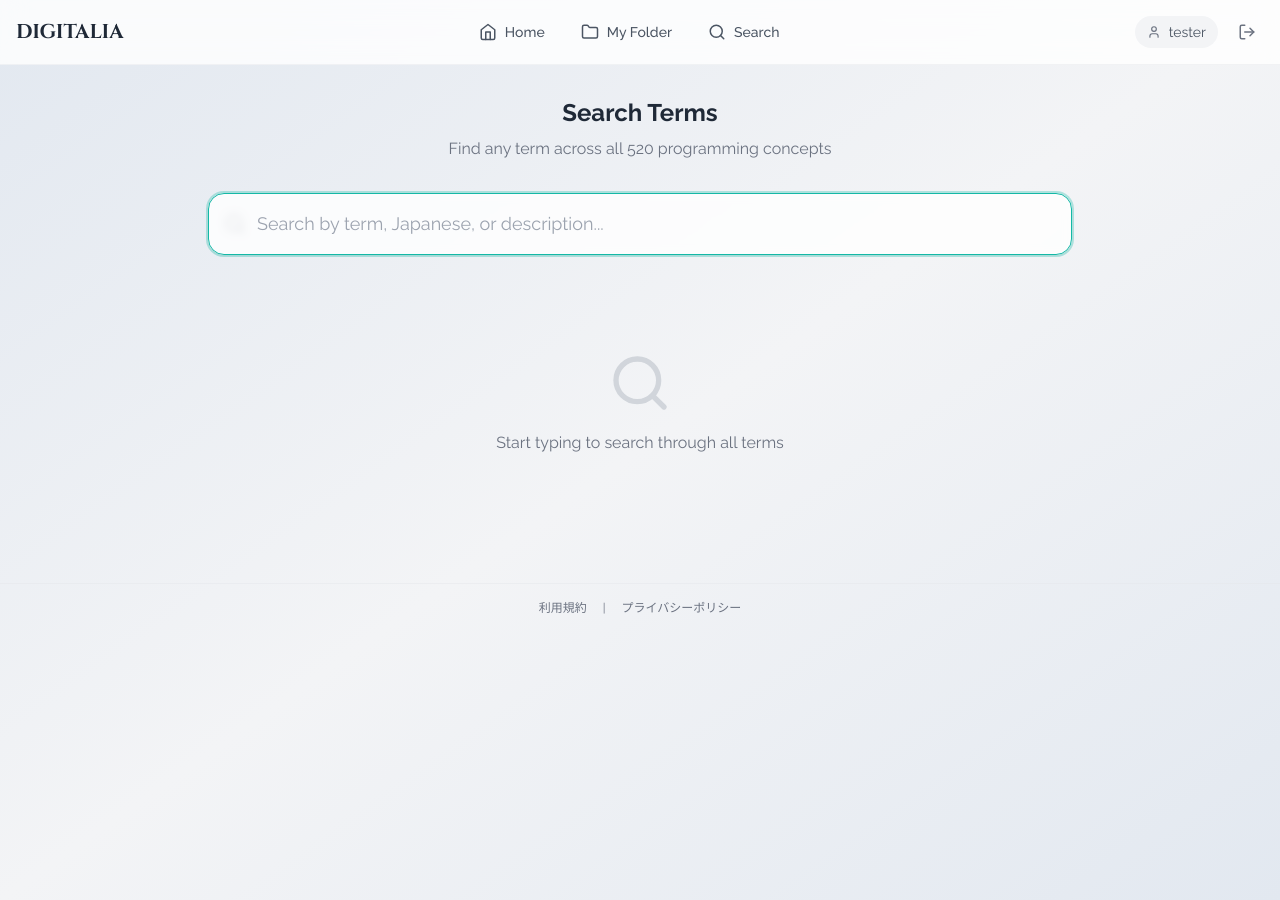
Test: SearchPage › shows loading spinner when searching
This screenshot has width=1280, height=900.
Type "binary" into the field with placeholder "Search by term, Japanese, or description...". click: (640, 224)
box: left=208, top=193, right=1072, bottom=255
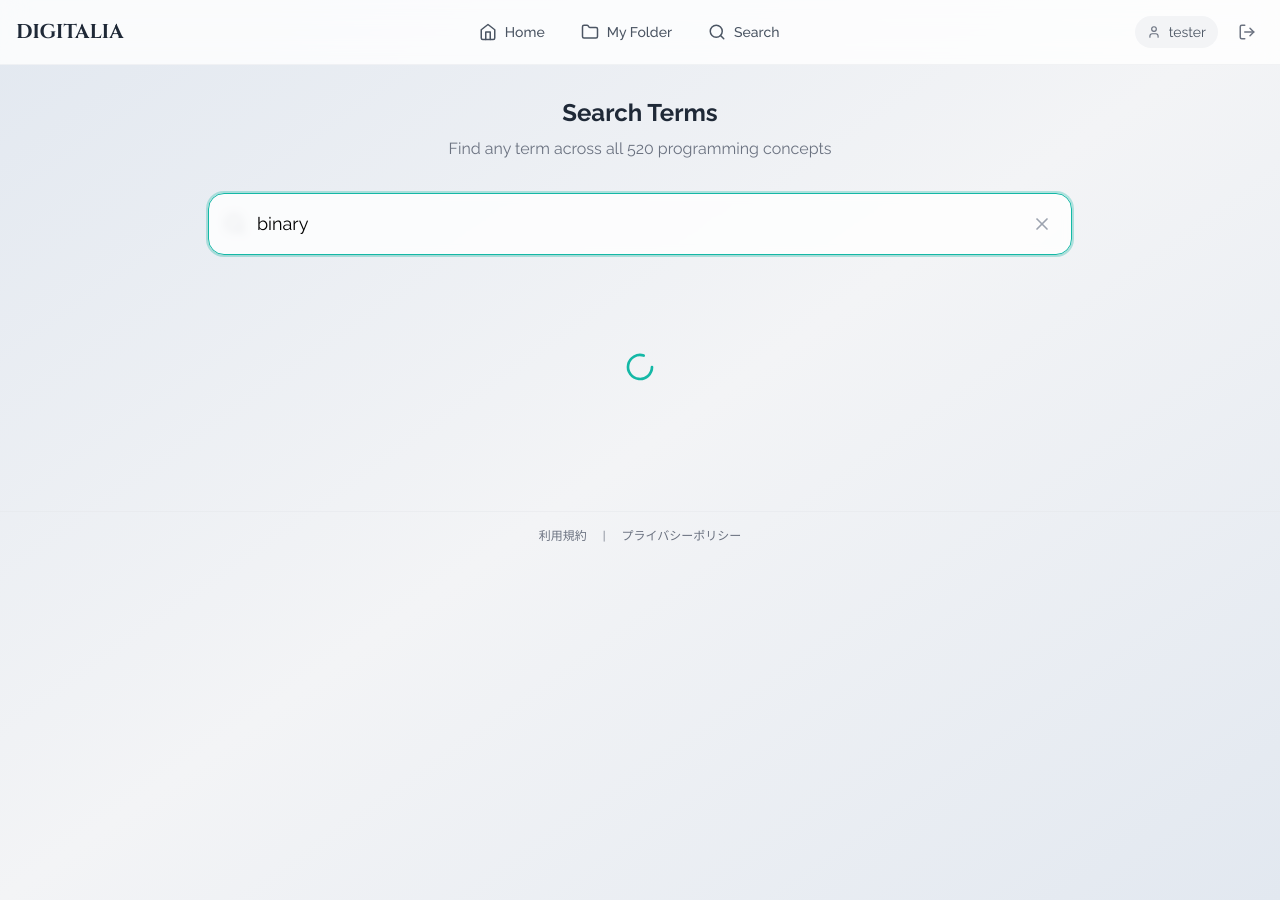
expect the icon with class "animate-spin" is shown: met, box left=624, top=351, right=656, bottom=383
